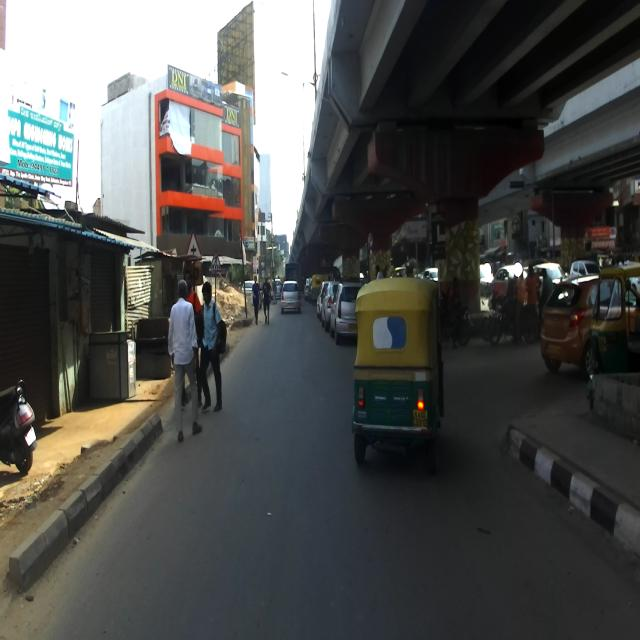auto ahead at: (352, 277, 443, 477)
car ahead at: (538, 266, 590, 382)
